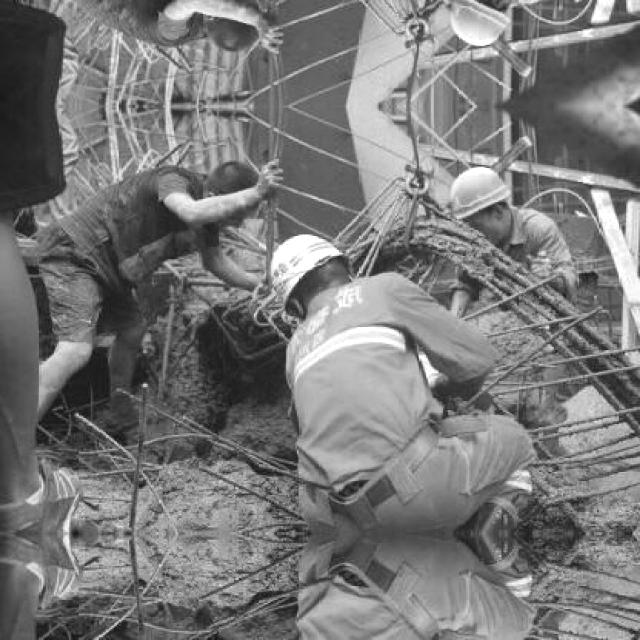hand_noglove: (254, 158, 286, 204), (529, 247, 557, 281)
head_helmet: (269, 230, 347, 316), (448, 165, 513, 222)
person: (260, 220, 505, 564), (17, 158, 278, 438)
